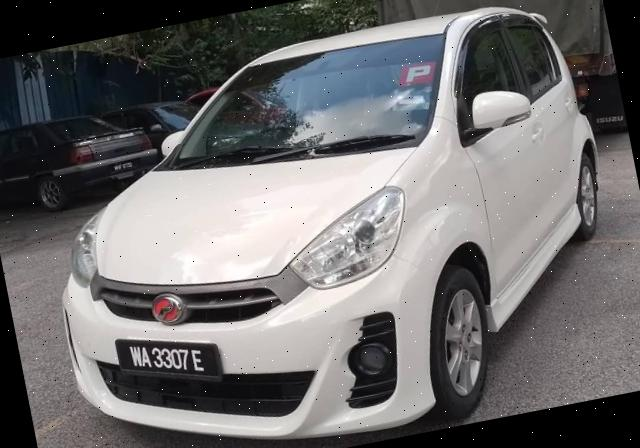License_Plate: (117, 322, 217, 398)
car: (5, 1, 640, 448)
